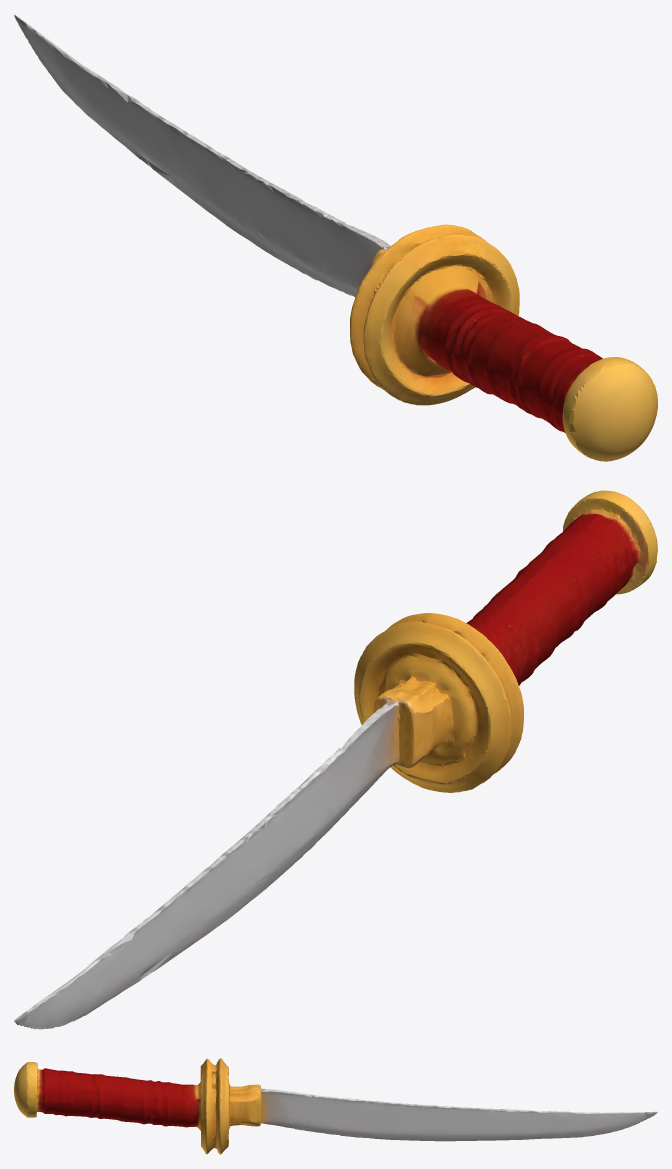
File: katana.glb
The picture shows the model from 3 angles, top to bottom: view 1: azimuth 30°, elevation 25°; view 2: azimuth 150°, elevation 25°; view 3: azimuth 270°, elevation 25°; orthographic projection. The views are drawn at different scales.
Visible parts, largest first — view 1: katana; view 2: katana; view 3: katana.
Part boxes in pixels (x1,y1,x2,y2): katana: (14, 14, 657, 461); katana: (14, 490, 657, 1029); katana: (14, 1058, 657, 1154).
Size of the model in its own units: 0.279 by 0.2829 by 1.89.
1 material, 1 textured.
